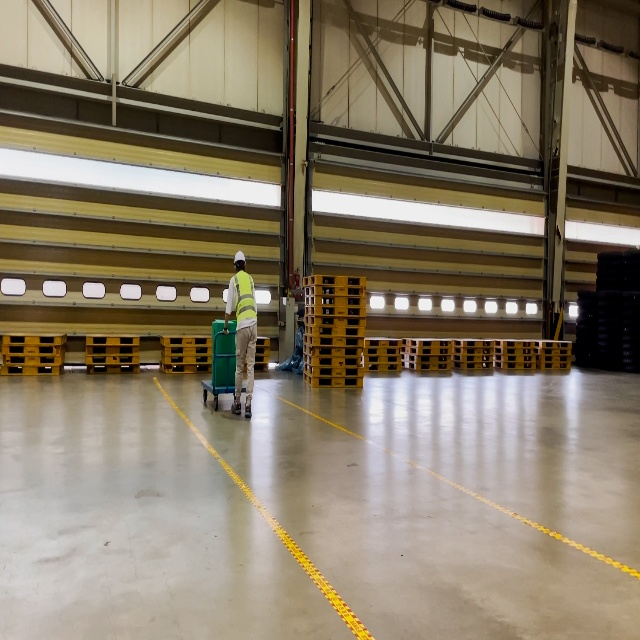Box: (212, 319, 237, 354), (211, 353, 237, 386)
Worker: (222, 250, 257, 419)
